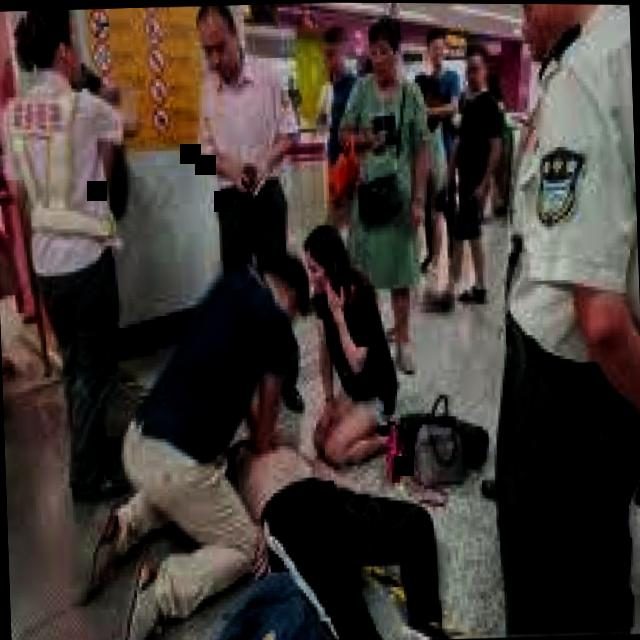Fall-Detected: (206, 402, 476, 640)
